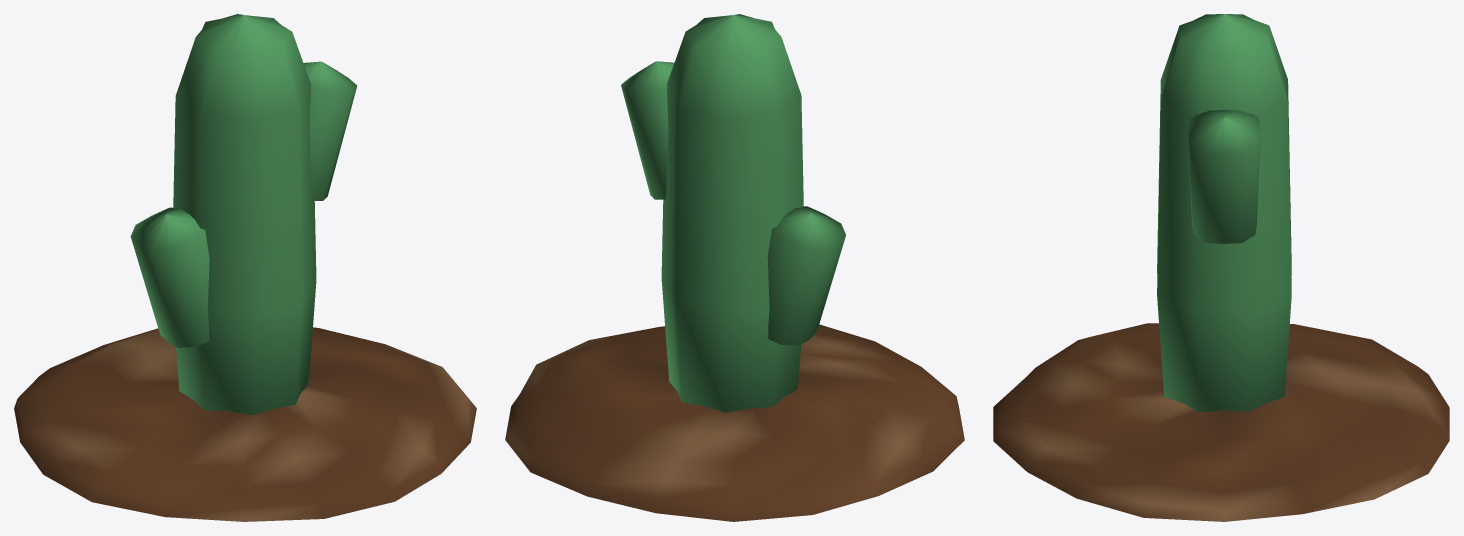
Rendered from plant-cactus-2.gltf.
The picture shows the model from 3 angles, left to right: view 1: azimuth 30°, elevation 25°; view 2: azimuth 150°, elevation 25°; view 3: azimuth 270°, elevation 25°; orthographic projection.
Bounding box in the file's own units: 1.28 × 1.25 × 1.26.
